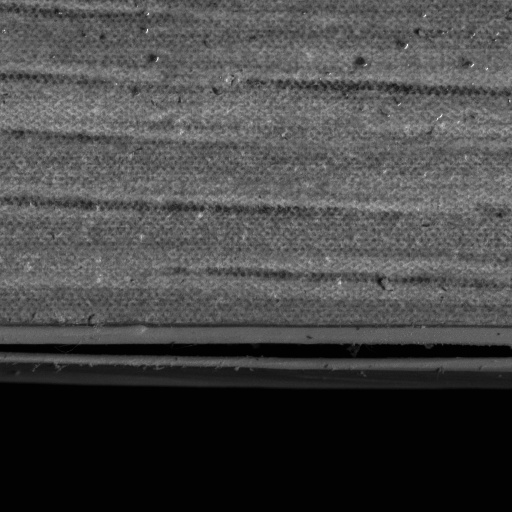kaijiao: (0, 323, 511, 377)
